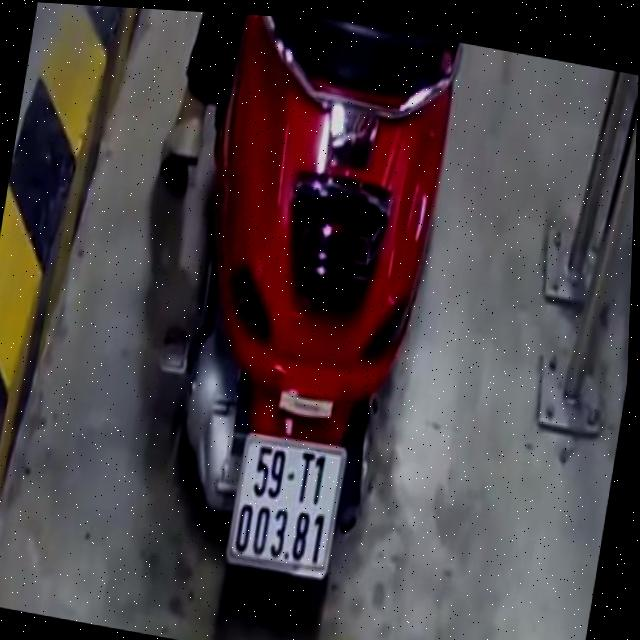motorcycle: (130, 9, 461, 640)
plate: (217, 425, 356, 587)
